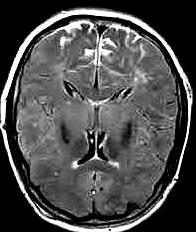Normal_Brain: (1, 1, 196, 232)
